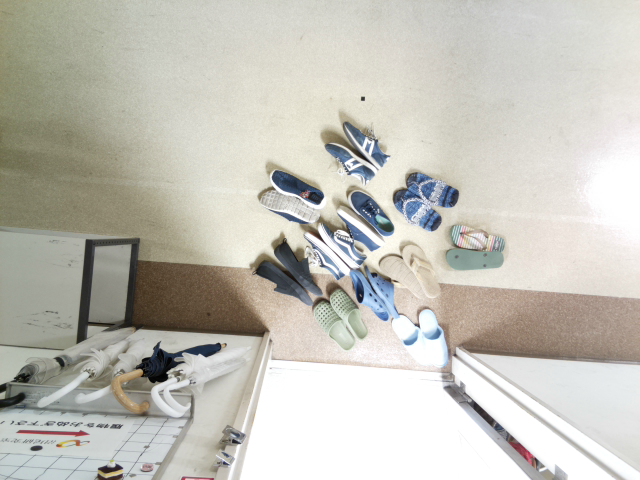Copy of Copy of Copy of Copy of Copy of Copy of Copy of Copy of Copy of shoes: (303, 230, 350, 281)
Copy of Copy of Copy of Copy of Copy of Copy of Copy of Copy of shoes: (316, 219, 366, 269)
Copy of Copy of Copy of Copy of Copy of Copy of Copy of shoes: (335, 204, 384, 251)
Copy of Copy of Copy of Copy of Copy of Copy of shoes: (346, 188, 396, 238)
Copy of Copy of Copy of Copy of Copy of sandal: (378, 254, 428, 298)
Copy of Copy of Copy of Copy of Copy of shoes: (258, 189, 320, 224)
Copy of Copy of Copy of Copy of Copy of slipper: (417, 307, 449, 367)
Copy of Copy of Copy of Copy of sandal: (408, 244, 441, 301)
Copy of Copy of Copy of Copy of shoes: (269, 167, 325, 208)
Copy of Copy of Copy of Copy of slipper: (389, 312, 432, 364)
Copy of Copy of Copy of sandal: (392, 188, 442, 230)
Copy of Copy of Copy of shoes: (323, 142, 378, 184)
Copy of Copy of Copy of slipper: (364, 267, 401, 319)
Copy of Copy of sandal: (404, 170, 460, 207)
Copy of Copy of shoes: (340, 120, 392, 169)
Copy of Copy of slipper: (349, 267, 390, 320)
Copy of sandal: (444, 247, 505, 270)
Copy of shoes: (273, 238, 324, 297)
Copy of slipper: (328, 288, 369, 341)
sandal: (449, 224, 507, 251)
shoes: (253, 259, 312, 306)
slipper: (313, 300, 356, 349)
